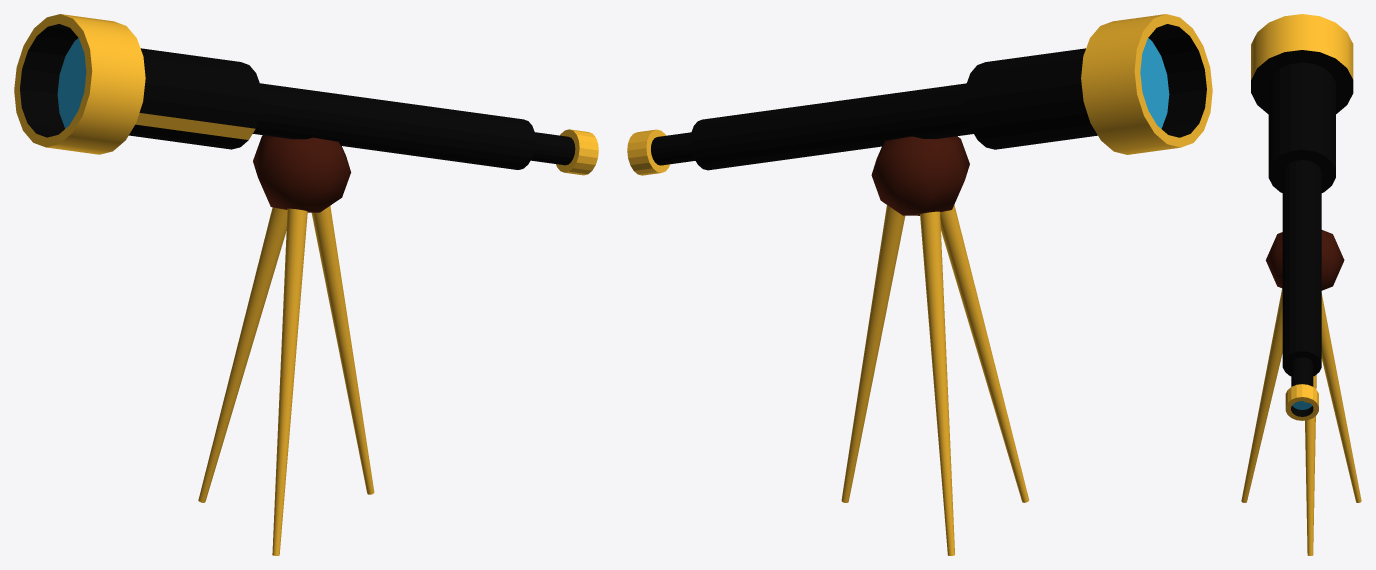
Rendered from Telescopio.fbx.
3 renders of one model, left to right at view 1: azimuth 30°, elevation 25°; view 2: azimuth 150°, elevation 25°; view 3: azimuth 270°, elevation 25°, orthographic. The views are drawn at different scales.
Parts seen in each view (by area): view 1: Cylinder001; view 2: Cylinder001; view 3: Cylinder001.
Boxes of the visible parts, left/top/right/bottom form: Cylinder001: left=14, top=14, right=598, bottom=555; Cylinder001: left=627, top=14, right=1212, bottom=555; Cylinder001: left=1241, top=14, right=1361, bottom=555.
Bounding box in the file's own units: 66.29 × 62.57 × 15.94.
